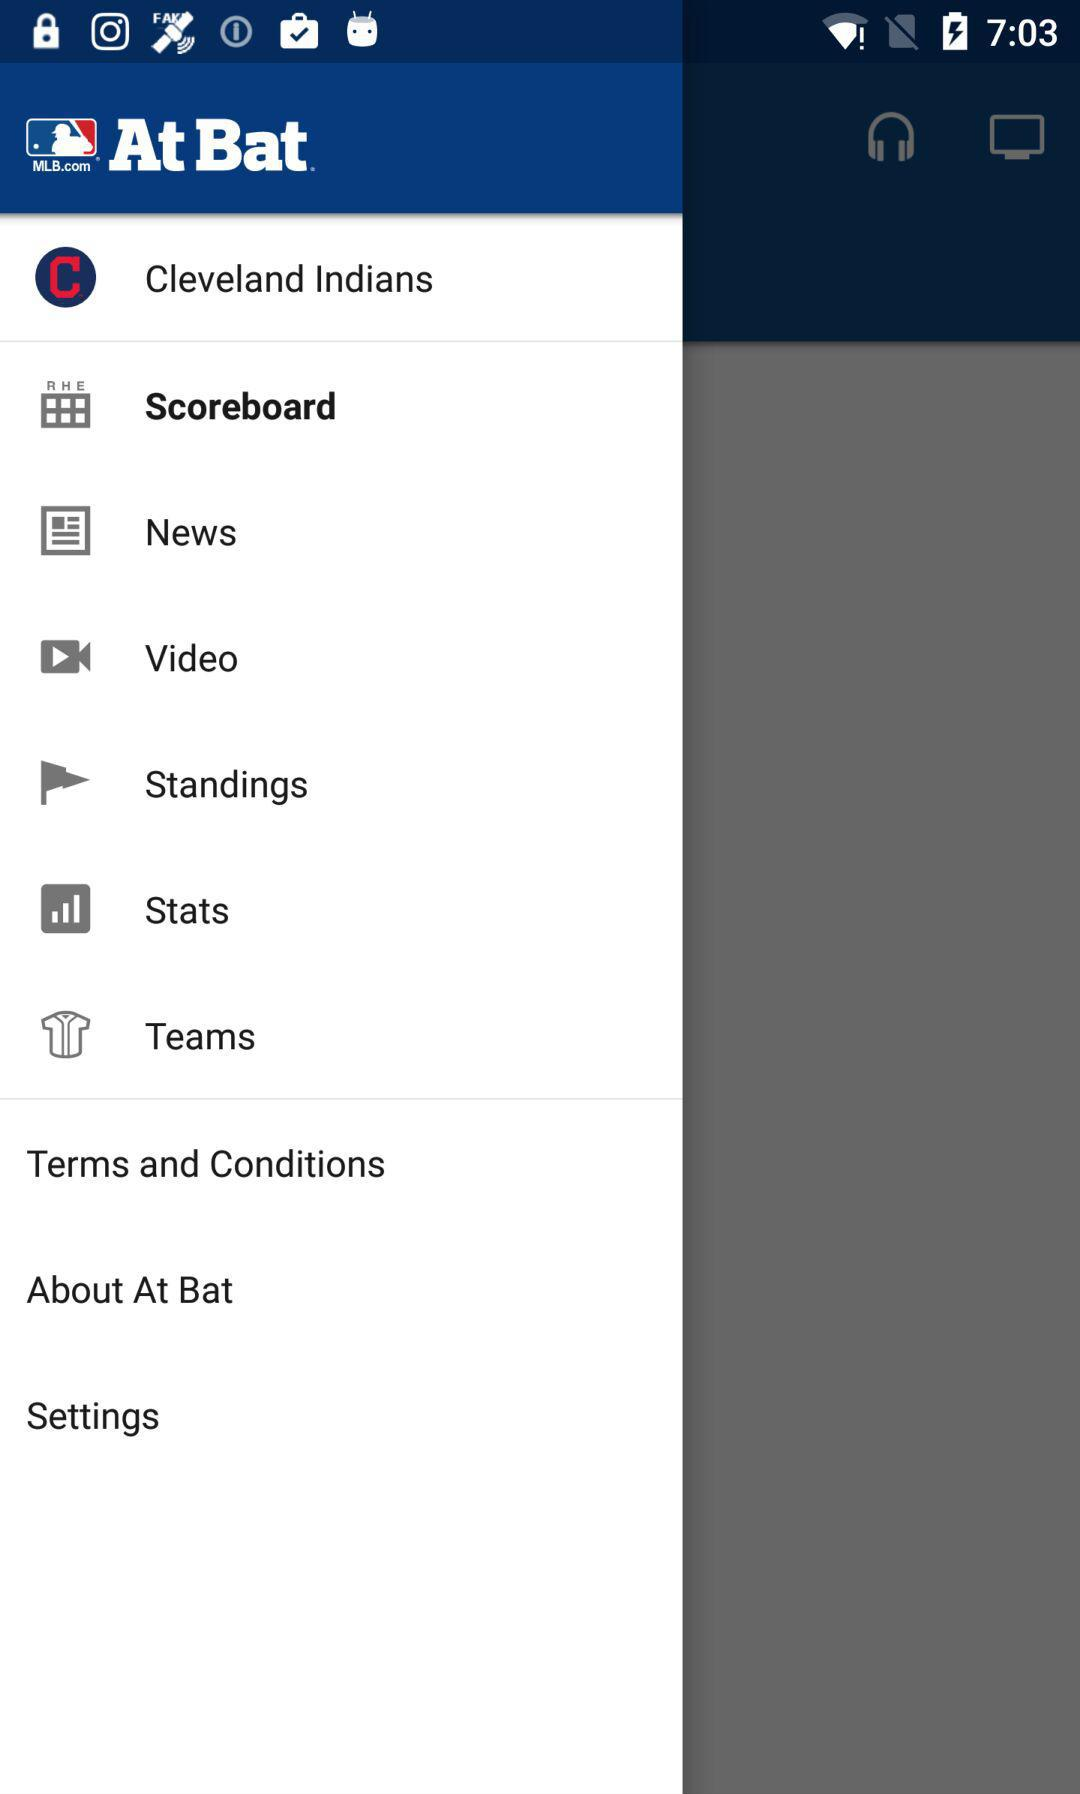Drawer: (1, 68, 683, 1794)
Icon: (41, 883, 92, 935), (41, 505, 92, 557)
Image: (26, 118, 316, 174), (35, 246, 97, 309), (40, 381, 94, 431), (41, 1010, 92, 1060), (40, 760, 92, 809), (40, 639, 94, 675)
Text: (26, 1148, 386, 1180), (146, 261, 436, 295), (146, 768, 309, 809), (145, 390, 338, 423), (26, 1274, 234, 1304), (27, 1401, 160, 1439), (145, 1023, 258, 1052), (143, 643, 240, 674), (147, 518, 238, 548), (146, 894, 231, 926)
UpperTaskBar: (1, 1, 1080, 64)
